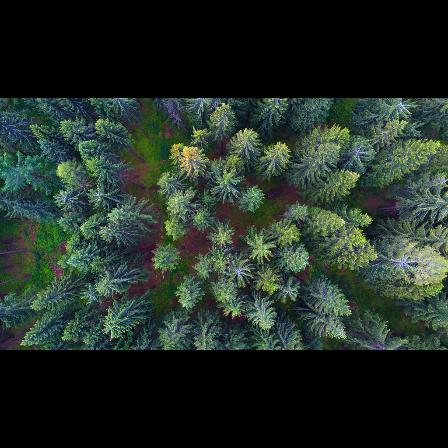Sick: (224, 257, 256, 290)
